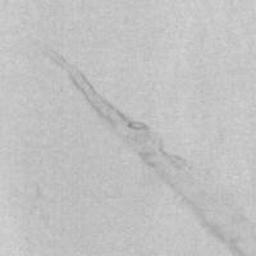Water spot: (29, 40, 256, 256)
